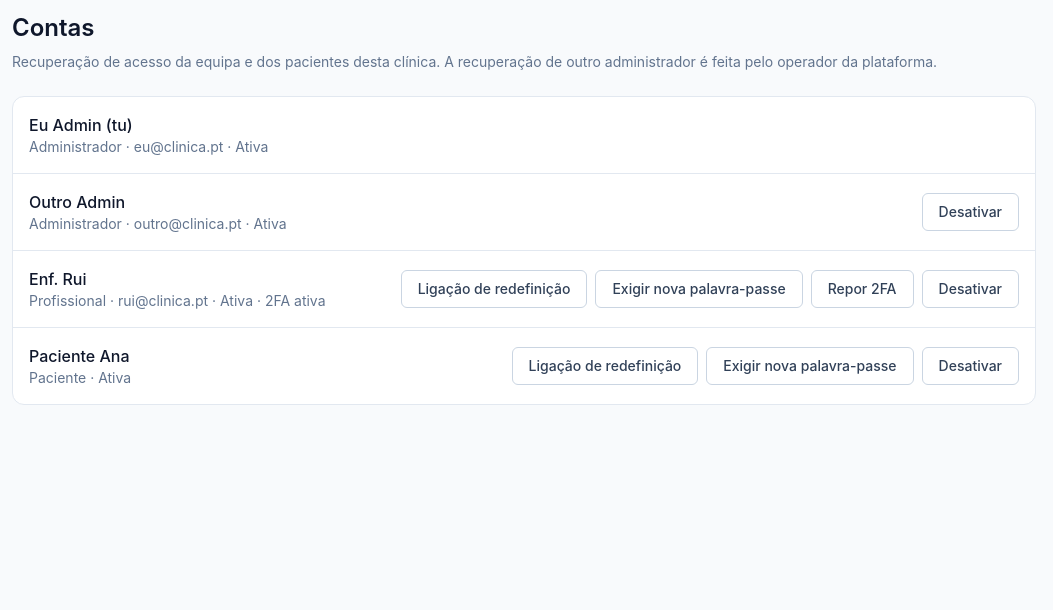
AccountsPage › shows an issued reset link once, with the token only in the URL fragment
Check: the text "Enf. Rui" is shown, box [29,269,86,289]
Click the button "Ligação de redefinição" in the row of "Enf. Rui": [494, 289] box [401,270,588,308]
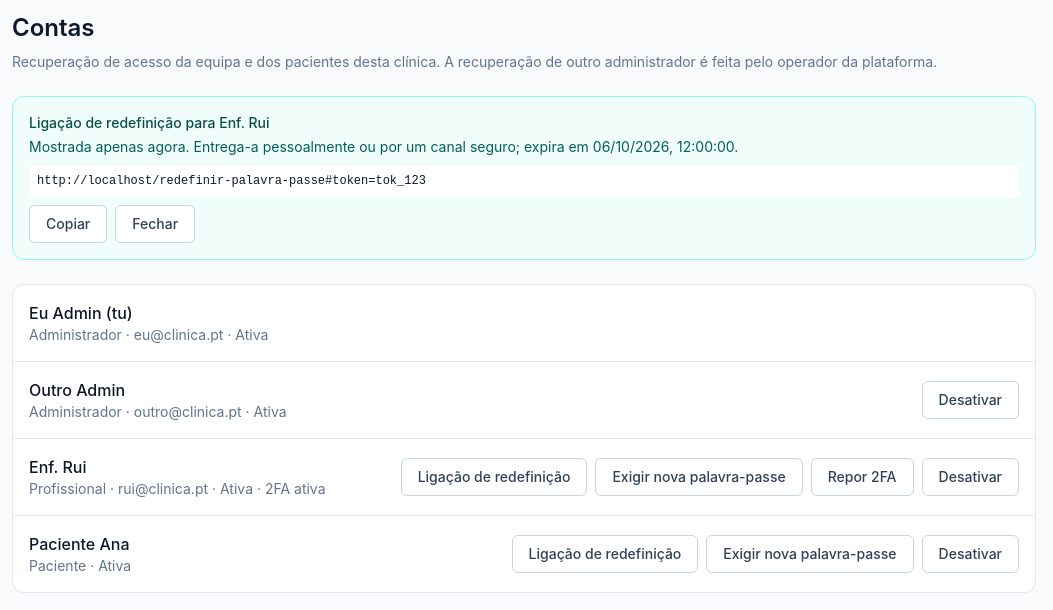
Click the button "Fechar": [155, 224] box [115,205,195,243]
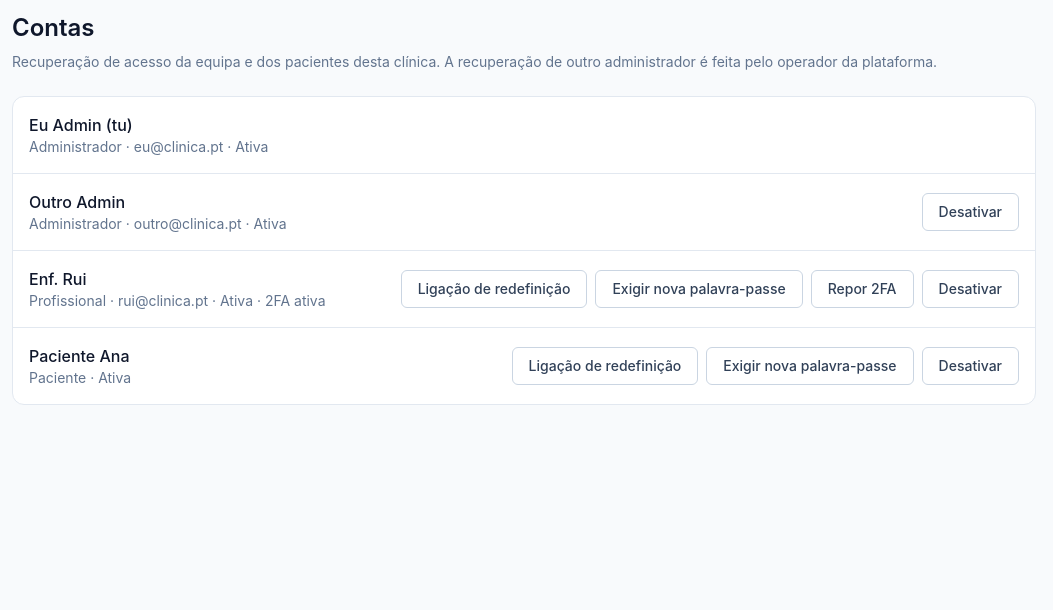
Check: the text "tok_123" is gone
